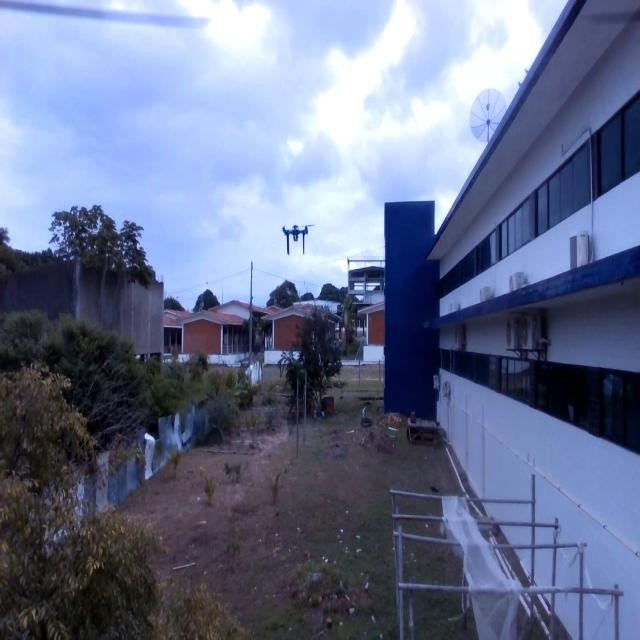-uav-: (276, 213, 314, 260)
